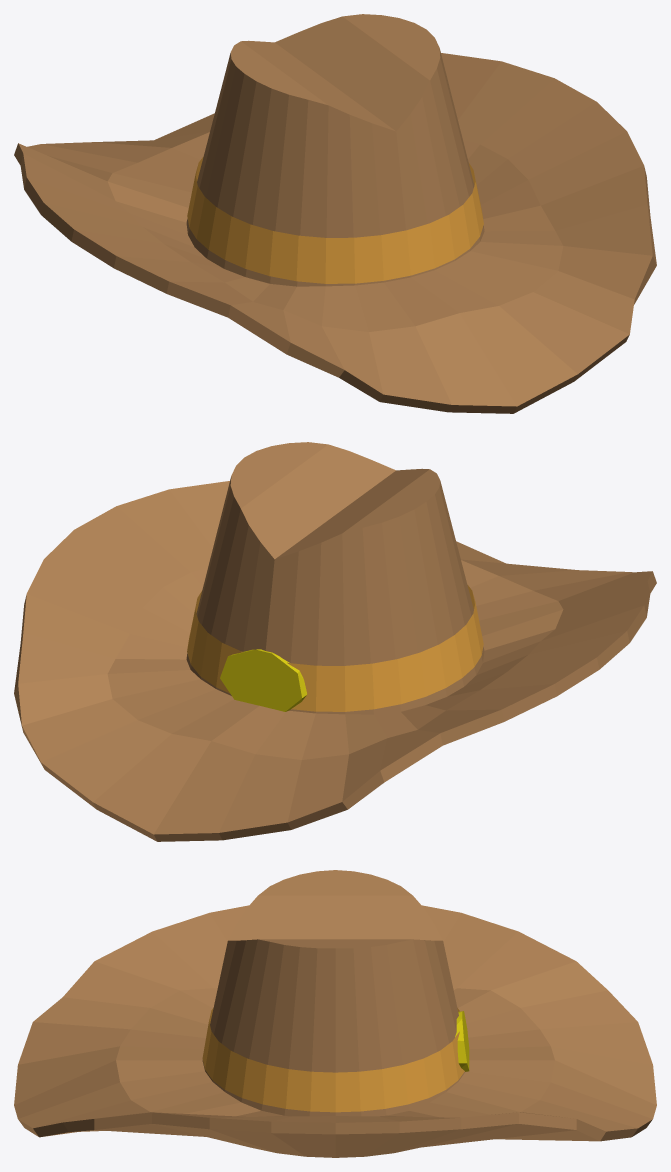
File: cowboy hat.fbx
3 renders of one model, top to bottom at view 1: azimuth 30°, elevation 25°; view 2: azimuth 150°, elevation 25°; view 3: azimuth 270°, elevation 25°, orthographic. The views are drawn at different scales.
Parts seen in each view (by area): view 1: Cylinder; view 2: Cylinder; view 3: Cylinder.
Boxes of the visible parts, box(x1,y1,x2,y2) form: Cylinder: box(14, 14, 656, 413); Cylinder: box(14, 442, 656, 841); Cylinder: box(14, 870, 656, 1157).
Bounding box in the file's own units: 405 × 170 × 483.
